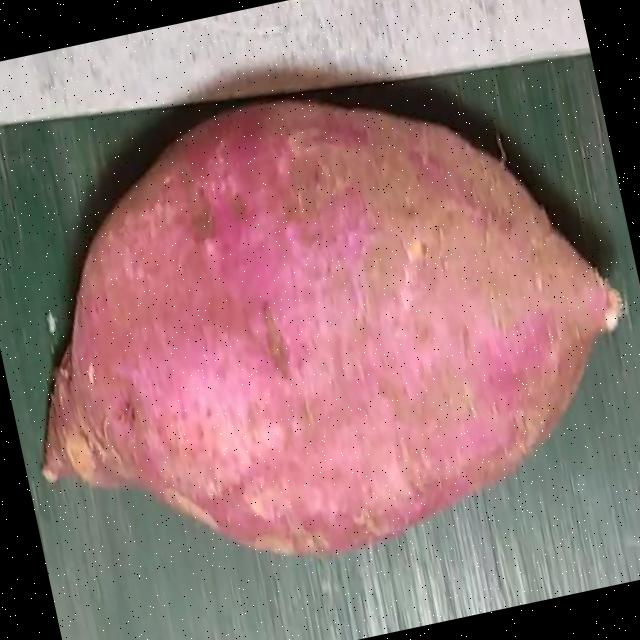Sweet Potato: (38, 101, 620, 557)
